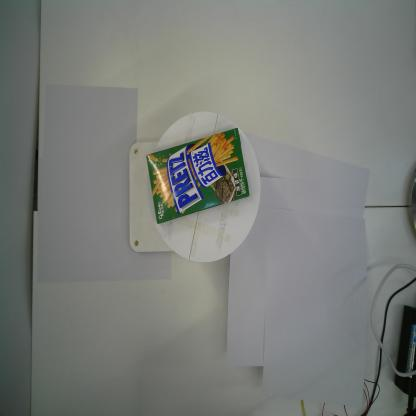Dessert: (145, 126, 251, 225)
